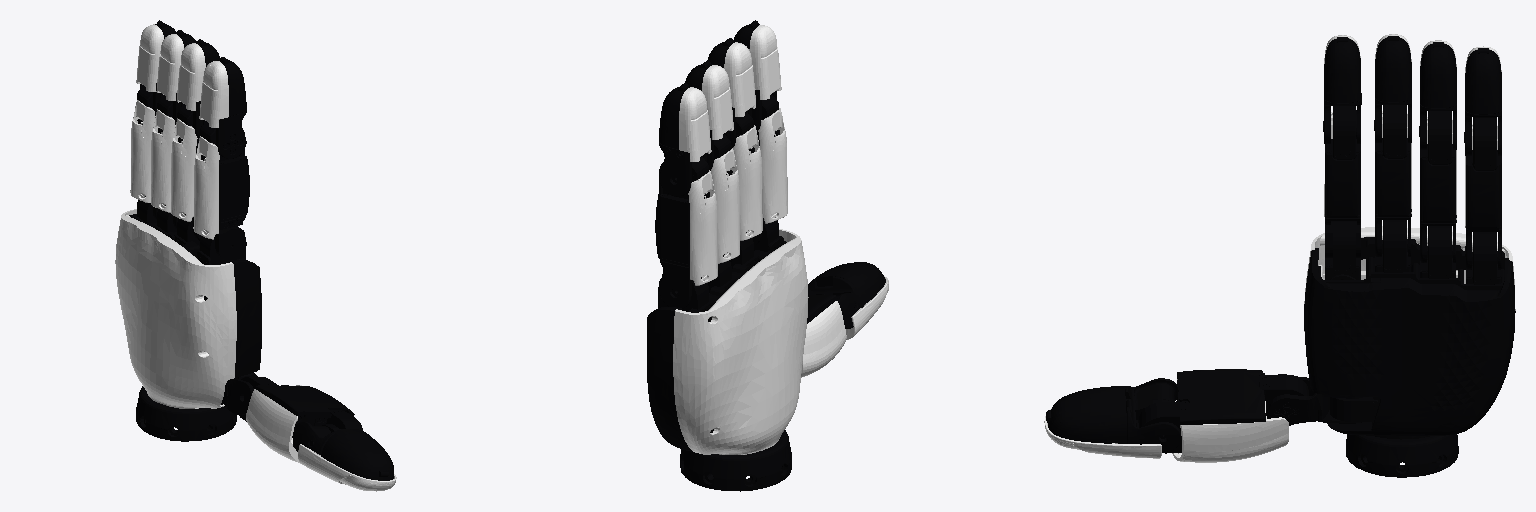
--- What the picture shows (computed from the rendered views, not written in the file) ---
Views: 3 orthographic renders of the robot side by side, from view 1: azimuth 30°, elevation 25°; view 2: azimuth 150°, elevation 25°; view 3: azimuth 270°, elevation 25°.
Model xhand_left with 30 links and 29 joints (12 revolute, 17 fixed), rooted at left_hand_link, posed all joints at 0.
Visible links, largest first — view 1: left_hand_back_link, left_hand_link, left_hand_thumb_rota_link2, left_hand_thumb_rota_link1, left_hand_index_rota_link1, left_hand_index_rotaback_link1, left_hand_thumb_rotaback_link1, left_hand_midback_link1, left_hand_index_rota_link2, left_hand_pinkyback_link1, left_hand_ringback_link1, left_hand_index_rotaback_link2 (+6 smaller); view 2: left_hand_back_link, left_hand_link, left_hand_pinky_link1, left_hand_pinkyback_link1, left_hand_index_rotaback_link1, left_hand_thumb_rota_link2, left_hand_ringback_link1, left_hand_midback_link1, left_hand_pinky_link2, left_hand_thumb_rotaback_link1, left_hand_pinkyback_link2, left_hand_index_rotaback_link2 (+5 smaller); view 3: left_hand_link, left_hand_thumb_rota_link1, left_hand_thumb_rota_link2, left_hand_pinky_link1, left_hand_mid_link1, left_hand_ring_link1, left_hand_thumb_rotaback_link1, left_hand_index_rota_link1, left_hand_index_rota_link2, left_hand_ring_link2, left_hand_pinky_link2, left_hand_mid_link2 (+4 smaller).
Boxes of the visible links, box(x1,y1,x2,y2) form: left_hand_back_link: box(115, 209, 236, 408); left_hand_link: box(129, 200, 261, 441); left_hand_thumb_rota_link2: box(293, 422, 393, 480); left_hand_thumb_rota_link1: box(239, 377, 362, 447); left_hand_index_rota_link1: box(200, 122, 249, 229); left_hand_index_rotaback_link1: box(193, 136, 219, 239); left_hand_thumb_rotaback_link1: box(246, 385, 301, 463); left_hand_midback_link1: box(171, 118, 197, 221); left_hand_index_rota_link2: box(203, 60, 246, 158); left_hand_pinkyback_link1: box(130, 100, 155, 202); left_hand_ringback_link1: box(151, 109, 175, 212); left_hand_index_rotaback_link2: box(199, 61, 228, 127); left_hand_back_link: box(673, 229, 808, 454); left_hand_link: box(647, 238, 791, 491); left_hand_pinky_link1: box(655, 156, 709, 308); left_hand_pinkyback_link1: box(688, 170, 717, 285); left_hand_index_rotaback_link1: box(758, 108, 787, 223); left_hand_thumb_rota_link2: box(808, 262, 885, 328); left_hand_ringback_link1: box(711, 148, 739, 263); left_hand_midback_link1: box(733, 125, 762, 240); left_hand_pinky_link2: box(659, 87, 706, 196); left_hand_thumb_rotaback_link1: box(801, 301, 846, 377); left_hand_pinkyback_link2: box(679, 87, 711, 161); left_hand_index_rotaback_link2: box(749, 25, 781, 99); left_hand_link: box(1304, 220, 1515, 477); left_hand_thumb_rota_link1: box(1136, 369, 1308, 453); left_hand_thumb_rota_link2: box(1047, 378, 1181, 451); left_hand_pinky_link1: box(1465, 117, 1501, 269); left_hand_mid_link1: box(1375, 105, 1411, 256); left_hand_ring_link1: box(1420, 111, 1456, 262); left_hand_thumb_rotaback_link1: box(1172, 379, 1288, 462); left_hand_index_rota_link1: box(1325, 106, 1360, 224); left_hand_index_rota_link2: box(1323, 38, 1361, 144); left_hand_ring_link2: box(1419, 44, 1456, 149); left_hand_pinky_link2: box(1464, 50, 1501, 155); left_hand_mid_link2: box(1374, 37, 1411, 142).
Size in the robot's own frame: 0.0643 by 0.2091 by 0.2077 metres.
Meshes: 30 distinct files referenced, 30 mesh visuals loaded (30 binary STL).

The robot description file, URDF, robot "xhand_left":
<?xml version="1.0" encoding="utf-8"?>
<!-- This URDF was automatically created by SolidWorks to URDF Exporter! Originally created by Stephen Brawner ([email redacted]) 
     Commit Version: 1.6.0-4-g7f85cfe  Build Version: 1.6.7995.38578
     For more information, please see http://wiki.ros.org/sw_urdf_exporter -->
<robot
  name="xhand_left">
  <link
    name="left_hand_link">
    <inertial>
      <origin
        xyz="0.0101781679017777 0.00332669287155701 0.0570610488181997"
        rpy="0 0 0" />
      <mass
        value="0.53930141" />
      <inertia
        ixx="0.00064456"
        ixy="-0.0000027"
        ixz="-0.00000218"
        iyy="0.00046462"
        iyz="-0.00005116"
        izz="0.00027776" />
    </inertial>
    <visual>
      <origin
        xyz="0 0 0"
        rpy="0 0 0" />
      <geometry>
        <mesh
          filename="package://xhand_left/meshes/left_hand_link.STL" />
      </geometry>
      <material
        name="RAL_9005_Jet_Black">
        <color
          rgba="0.055 0.055 0.063 1.0" />
      </material>
    </visual>
    <collision>
      <origin
        xyz="0 0 0"
        rpy="0 0 0" />
      <geometry>
        <mesh
          filename="package://xhand_left/meshes/left_hand_link.STL" />
      </geometry>
    </collision>
  </link>
  <link
    name="left_hand_ee_link">
    <inertial>
      <origin
        xyz="4.91746814101629E-21 6.73369254252873E-16 2.77555756156289E-17"
        rpy="0 0 0" />
      <mass
        value="0.00000565" />
      <inertia
        ixx="0.00000000001"
        ixy="0.00000000001"
        ixz="0.00000000001"
        iyy="0.00000000001"
        iyz="0.00000000001"
        izz="0.00000000001" />
    </inertial>
    <visual>
      <origin
        xyz="0 0 0"
        rpy="0 0 0" />
      <geometry>
        <mesh
          filename="package://xhand_left/meshes/left_hand_ee_link.STL" />
      </geometry>
      <material
        name="RAL_9005_Jet_Black">
        <color
          rgba="0.055 0.055 0.063 1.0" />
      </material>
    </visual>
    <collision>
      <origin
        xyz="0 0 0"
        rpy="0 0 0" />
      <geometry>
        <mesh
          filename="package://xhand_left/meshes/left_hand_ee_link.STL" />
      </geometry>
    </collision>
  </link>
  <joint
    name="left_hand_ee_joint"
    type="fixed">
    <origin
      xyz="0 0 0.065"
      rpy="0 0 0" />
    <parent
      link="left_hand_link" />
    <child
      link="left_hand_ee_link" />
    <axis
      xyz="0 0 0" />
    <dynamics
      damping="0"
      friction="0" />
  </joint>
  <link
    name="left_hand_back_link">
    <inertial>
      <origin
        xyz="-0.014009233507471 0.00206609606832526 -0.000644386526891264"
        rpy="0 0 0" />
      <mass
        value="0.00000002" />
      <inertia
        ixx="0.00000000001"
        ixy="0.00000000001"
        ixz="0.00000000001"
        iyy="0.00000000001"
        iyz="0.00000000001"
        izz="0.00000000001" />
    </inertial>
    <visual>
      <origin
        xyz="0 0 0"
        rpy="0 0 0" />
      <geometry>
        <mesh
          filename="package://xhand_left/meshes/left_hand_back_link.STL" />
      </geometry>
      <material
        name="RAL_9003_Signal_White">
        <color
          rgba="0.941 0.941 0.941 1.0" />
      </material>
    </visual>
    <collision>
      <origin
        xyz="0 0 0"
        rpy="0 0 0" />
      <geometry>
        <mesh
          filename="package://xhand_left/meshes/left_hand_back_link.STL" />
      </geometry>
    </collision>
  </link>
  <joint
    name="left_hand_back_joint"
    type="fixed">
    <origin
      xyz="0 0 0.065"
      rpy="0 0 0" />
    <parent
      link="left_hand_link" />
    <child
      link="left_hand_back_link" />
    <axis
      xyz="0 0 0" />
    <dynamics
      damping="0"
      friction="0" />
  </joint>
  <link
    name="left_hand_thumb_bend_link">
    <inertial>
      <origin
        xyz="-0.00116653621756009 -0.0144315029884419 6.50666001038684E-05"
        rpy="0 0 0" />
      <mass
        value="0.01151453" />
      <inertia
        ixx="0.00000155"
        ixy="0.00000003"
        ixz="0.00000000001"
        iyy="0.00000062"
        iyz="-0.00000007"
        izz="0.00000157" />
    </inertial>
    <visual>
      <origin
        xyz="0 0 0"
        rpy="0 0 0" />
      <geometry>
        <mesh
          filename="package://xhand_left/meshes/left_hand_thumb_bend_link.STL" />
      </geometry>
      <material
        name="RAL_9005_Jet_Black">
        <color
          rgba="0.055 0.055 0.063 1.0" />
      </material>
    </visual>
    <collision>
      <origin
        xyz="0 0 0"
        rpy="0 0 0" />
      <geometry>
        <mesh
          filename="package://xhand_left/meshes/left_hand_thumb_bend_link.STL" />
      </geometry>
    </collision>
  </link>
  <joint
    name="left_hand_thumb_bend_joint"
    type="revolute">
    <origin
      xyz="0.0095 -0.0228 0.0305"
      rpy="0 0 0" />
    <parent
      link="left_hand_link" />
    <child
      link="left_hand_thumb_bend_link" />
    <axis
      xyz="0 0 1" />
    <limit
      lower="0"
      upper="1.832"
      effort="1.1"
      velocity="8.63" />
    <dynamics
      damping="0"
      friction="0" />
  </joint>
  <link
    name="left_hand_thumb_rota_link1">
    <inertial>
      <origin
        xyz="-0.00035301300459029 -0.028699400584612 0.00135210573795722"
        rpy="0 0 0" />
      <mass
        value="0.1322853" />
      <inertia
        ixx="0.00003665"
        ixy="0.00000788"
        ixz="0.00000198"
        iyy="0.00001694"
        iyz="-0.00000185"
        izz="0.00004358" />
    </inertial>
    <visual>
      <origin
        xyz="0 0 0"
        rpy="0 0 0" />
      <geometry>
        <mesh
          filename="package://xhand_left/meshes/left_hand_thumb_rota_link1.STL" />
      </geometry>
      <material
        name="RAL_9005_Jet_Black">
        <color
          rgba="0.055 0.055 0.063 1.0" />
      </material>
    </visual>
    <collision>
      <origin
        xyz="0 0 0"
        rpy="0 0 0" />
      <geometry>
        <mesh
          filename="package://xhand_left/meshes/left_hand_thumb_rota_link1.STL" />
      </geometry>
    </collision>
  </link>
  <joint
    name="left_hand_thumb_rota_joint1"
    type="revolute">
    <origin
      xyz="0.0083177 -0.028599 -0.00178"
      rpy="0 0.2618 0.0407" />
    <parent
      link="left_hand_thumb_bend_link" />
    <child
      link="left_hand_thumb_rota_link1" />
    <axis
      xyz="-1 0 0" />
    <limit
      lower="-0.698"
      upper="1.57"
      effort="1.1"
      velocity="8.63" />
    <dynamics
      damping="0"
      friction="0" />
  </joint>
  <link
    name="left_hand_thumb_rotaback_link1">
    <inertial>
      <origin
        xyz="0.00145635345487377 0.0296284435379628 -0.00757347054072981"
        rpy="0 0 0" />
      <mass
        value="0.00000006" />
      <inertia
        ixx="0.00000000001"
        ixy="0.00000000001"
        ixz="0.00000000001"
        iyy="0.00000000001"
        iyz="0.00000000001"
        izz="0.00000000001" />
    </inertial>
    <visual>
      <origin
        xyz="0 0 0"
        rpy="0 0 0" />
      <geometry>
        <mesh
          filename="package://xhand_left/meshes/left_hand_thumb_rotaback_link1.STL" />
      </geometry>
      <material
        name="RAL_9003_Signal_White">
        <color
          rgba="0.941 0.941 0.941 1.0" />
      </material>
    </visual>
    <collision>
      <origin
        xyz="0 0 0"
        rpy="0 0 0" />
      <geometry>
        <mesh
          filename="package://xhand_left/meshes/left_hand_thumb_rotaback_link1.STL" />
      </geometry>
    </collision>
  </link>
  <joint
    name="left_hand_thumb_rotaback_joint1"
    type="fixed">
    <origin
      xyz="0 -0.0553000000000004 0"
      rpy="0 0 0" />
    <parent
      link="left_hand_thumb_rota_link1" />
    <child
      link="left_hand_thumb_rotaback_link1" />
    <axis
      xyz="0 0 0" />
    <dynamics
      damping="0"
      friction="0" />
  </joint>
  <link
    name="left_hand_thumb_rota_link2">
    <inertial>
      <origin
        xyz="-0.000460793967924878 -0.0228414268658243 0.000578251608109689"
        rpy="0 0 0" />
      <mass
        value="0.03516871" />
      <inertia
        ixx="0.00000779"
        ixy="-0.00000002"
        ixz="0.00000034"
        iyy="0.0000035"
        iyz="0.00000018"
        izz="0.00000896" />
    </inertial>
    <visual>
      <origin
        xyz="0 0 0"
        rpy="0 0 0" />
      <geometry>
        <mesh
          filename="package://xhand_left/meshes/left_hand_thumb_rota_link2.STL" />
      </geometry>
      <material
        name="RAL_9005_Jet_Black">
        <color
          rgba="0.055 0.055 0.063 1.0" />
      </material>
    </visual>
    <collision>
      <origin
        xyz="0 0 0"
        rpy="0 0 0" />
      <geometry>
        <mesh
          filename="package://xhand_left/meshes/left_hand_thumb_rota_link2.STL" />
      </geometry>
    </collision>
  </link>
  <joint
    name="left_hand_thumb_rota_joint2"
    type="revolute">
    <origin
      xyz="0 -0.0553 0"
      rpy="0 0 0" />
    <parent
      link="left_hand_thumb_rota_link1" />
    <child
      link="left_hand_thumb_rota_link2" />
    <axis
      xyz="-1 0 0" />
    <limit
      lower="0"
      upper="1.57"
      effort="0.4"
      velocity="14.38" />
    <dynamics
      damping="0"
      friction="0" />
  </joint>
  <link
    name="left_hand_thumb_rotaback_link2">
    <inertial>
      <origin
        xyz="-0.000513245945552355 0.0256681874022328 -0.00926148643045993"
        rpy="0 0 0" />
      <mass
        value="0.00000004" />
      <inertia
        ixx="0.00000000001"
        ixy="0.00000000001"
        ixz="0.00000000001"
        iyy="0.00000000001"
        iyz="0.00000000001"
        izz="0.00000000001" />
    </inertial>
    <visual>
      <origin
        xyz="0 0 0"
        rpy="0 0 0" />
      <geometry>
        <mesh
          filename="package://xhand_left/meshes/left_hand_thumb_rotaback_link2.STL" />
      </geometry>
      <material
        name="RAL_9003_Signal_White">
        <color
          rgba="0.941 0.941 0.941 1.0" />
      </material>
    </visual>
    <collision>
      <origin
        xyz="0 0 0"
        rpy="0 0 0" />
      <geometry>
        <mesh
          filename="package://xhand_left/meshes/left_hand_thumb_rotaback_link2.STL" />
      </geometry>
    </collision>
  </link>
  <joint
    name="left_hand_thumb_rotaback_joint2"
    type="fixed">
    <origin
      xyz="0 -0.0499881470979494 0"
      rpy="0 0 0" />
    <parent
      link="left_hand_thumb_rota_link2" />
    <child
      link="left_hand_thumb_rotaback_link2" />
    <axis
      xyz="0 0 0" />
    <dynamics
      damping="0"
      friction="0" />
  </joint>
  <link
    name="left_hand_thumb_rota_tip">
    <inertial>
      <origin
        xyz="-6.93889390390723E-18 -2.77555756156289E-17 -1.87350135405495E-16"
        rpy="0 0 0" />
      <mass
        value="0.00000565" />
      <inertia
        ixx="0.00000000001"
        ixy="0.00000000001"
        ixz="0.00000000001"
        iyy="0.00000000001"
        iyz="0.00000000001"
        izz="0.00000000001" />
    </inertial>
    <visual>
      <origin
        xyz="0 0 0"
        rpy="0 0 0" />
      <geometry>
        <mesh
          filename="package://xhand_left/meshes/left_hand_thumb_rota_tip.STL" />
      </geometry>
      <material
        name="RAL_9005_Jet_Black">
        <color
          rgba="0.055 0.055 0.063 1.0" />
      </material>
    </visual>
    <collision>
      <origin
        xyz="0 0 0"
        rpy="0 0 0" />
      <geometry>
        <mesh
          filename="package://xhand_left/meshes/left_hand_thumb_rota_tip.STL" />
      </geometry>
    </collision>
  </link>
  <joint
    name="left_hand_thumb_rota_joint3"
    type="fixed">
    <origin
      xyz="0 -0.0499881470979494 0"
      rpy="0 0 0" />
    <parent
      link="left_hand_thumb_rota_link2" />
    <child
      link="left_hand_thumb_rota_tip" />
    <axis
      xyz="0 0 0" />
    <dynamics
      damping="0"
      friction="0" />
  </joint>
  <link
    name="left_hand_index_bend_link">
    <inertial>
      <origin
        xyz="-0.000715851164578153 0.000118997558756634 0.0111903014853559"
        rpy="0 0 0" />
      <mass
        value="0.068721" />
      <inertia
        ixx="0.00001643"
        ixy="0.00000000001"
        ixz="0.00000013"
        iyy="0.00001707"
        iyz="-0.00000011"
        izz="0.00000343" />
    </inertial>
    <visual>
      <origin
        xyz="0 0 0"
        rpy="0 0 0" />
      <geometry>
        <mesh
          filename="package://xhand_left/meshes/left_hand_index_bend_link.STL" />
      </geometry>
      <material
        name="RAL_9005_Jet_Black">
        <color
          rgba="0.055 0.055 0.063 1.0" />
      </material>
    </visual>
    <collision>
      <origin
        xyz="0 0 0"
        rpy="0 0 0" />
      <geometry>
        <mesh
          filename="package://xhand_left/meshes/left_hand_index_bend_link.STL" />
      </geometry>
    </collision>
  </link>
  <joint
    name="left_hand_index_bend_joint"
    type="revolute">
    <origin
      xyz="0.0065 -0.0265 0.0899"
      rpy="0 0 0" />
    <parent
      link="left_hand_link" />
    <child
      link="left_hand_index_bend_link" />
    <axis
      xyz="1 0 0" />
    <limit
      lower="-0.174"
      upper="0.174"
      effort="0.4"
      velocity="14.38" />
    <dynamics
      damping="0"
      friction="0" />
  </joint>
  <link
    name="left_hand_index_rota_link1">
    <inertial>
      <origin
        xyz="0.000632930512953291 0.000133008106555473 0.0355868719939086"
        rpy="0 0 0" />
      <mass
        value="0.06298297" />
      <inertia
        ixx="0.00001686"
        ixy="0.00000000001"
        ixz="-0.00000019"
        iyy="0.00001738"
        iyz="-0.00000028"
        izz="0.0000032" />
    </inertial>
    <visual>
      <origin
        xyz="0 0 0"
        rpy="0 0 0" />
      <geometry>
        <mesh
          filename="package://xhand_left/meshes/left_hand_index_rota_link1.STL" />
      </geometry>
      <material
        name="RAL_9005_Jet_Black">
        <color
          rgba="0.055 0.055 0.063 1" />
      </material>
    </visual>
    <collision>
      <origin
        xyz="0 0 0"
        rpy="0 0 0" />
      <geometry>
        <mesh
          filename="package://xhand_left/meshes/left_hand_index_rota_link1.STL" />
      </geometry>
    </collision>
  </link>
  <joint
    name="left_hand_index_joint1"
    type="revolute">
    <origin
      xyz="0 0 0.0178"
      rpy="0 0 0" />
    <parent
      link="left_hand_index_bend_link" />
    <child
      link="left_hand_index_rota_link1" />
    <axis
      xyz="0 1 0" />
    <limit
      lower="0"
      upper="1.919"
      effort="1.1"
      velocity="8.63" />
    <dynamics
      damping="0"
      friction="0" />
  </joint>
  <link
    name="left_hand_index_rotaback_link1">
    <inertial>
      <origin
        xyz="-0.011594801976911 -0.000148033356023192 -0.0241234221633289"
        rpy="0 0 0" />
      <mass
        value="0.00000002" />
      <inertia
        ixx="0.00000000001"
        ixy="0.00000000001"
        ixz="0.00000000001"
        iyy="0.00000000001"
        iyz="0.00000000001"
        izz="0.00000000001" />
    </inertial>
    <visual>
      <origin
        xyz="0 0 0"
        rpy="0 0 0" />
      <geometry>
        <mesh
          filename="package://xhand_left/meshes/left_hand_index_rotaback_link1.STL" />
      </geometry>
      <material
        name="RAL_9003_Signal_White">
        <color
          rgba="0.941 0.941 0.941 1" />
      </material>
    </visual>
    <collision>
      <origin
        xyz="0 0 0"
        rpy="0 0 0" />
      <geometry>
        <mesh
          filename="package://xhand_left/meshes/left_hand_index_rotaback_link1.STL" />
      </geometry>
    </collision>
  </link>
  <joint
    name="left_hand_index_rotaback_joint1"
    type="fixed">
    <origin
      xyz="0 0 0.0558"
      rpy="0 0 0" />
    <parent
      link="left_hand_index_rota_link1" />
    <child
      link="left_hand_index_rotaback_link1" />
    <axis
      xyz="0 0 0" />
    <dynamics
      damping="0"
      friction="0" />
  </joint>
  <link
    name="left_hand_index_rota_link2">
    <inertial>
      <origin
        xyz="0.00119905164876562 -0.000248362062241336 0.0213789865633107"
        rpy="0 0 0" />
      <mass
        value="0.01582395" />
      <inertia
        ixx="0.00000283"
        ixy="0.00000000001"
        ixz="-0.00000007"
        iyy="0.00000277"
        iyz="-0.00000012"
        izz="0.00000085" />
    </inertial>
    <visual>
      <origin
        xyz="0 0 0"
        rpy="0 0 0" />
      <geometry>
        <mesh
          filename="package://xhand_left/meshes/left_hand_index_rota_link2.STL" />
      </geometry>
      <material
        name="RAL_9005_Jet_Black">
        <color
          rgba="0.055 0.055 0.063 1" />
      </material>
    </visual>
    <collision>
      <origin
        xyz="0 0 0"
        rpy="0 0 0" />
      <geometry>
        <mesh
          filename="package://xhand_left/meshes/left_hand_index_rota_link2.STL" />
      </geometry>
    </collision>
  </link>
  <joint
    name="left_hand_index_joint2"
    type="revolute">
    <origin
      xyz="0 0 0.0558"
      rpy="0 0 0" />
    <parent
      link="left_hand_index_rota_link1" />
    <child
      link="left_hand_index_rota_link2" />
    <axis
      xyz="0 1 0" />
    <limit
      lower="0"
      upper="1.919"
      effort="0.4"
      velocity="14.38" />
    <dynamics
      damping="0"
      friction="0" />
  </joint>
  <link
    name="left_hand_index_rotaback_link2">
    <inertial>
      <origin
        xyz="-0.00758843721876781 0.00015795043860968 -0.0176655210856498"
        rpy="0 0 0" />
      <mass
        value="0.00000001" />
      <inertia
        ixx="0.00000000001"
        ixy="0.00000000001"
        ixz="0.00000000001"
        iyy="0.00000000001"
        iyz="0.00000000001"
        izz="0.00000000001" />
    </inertial>
    <visual>
      <origin
        xyz="0 0 0"
        rpy="0 0 0" />
      <geometry>
        <mesh
          filename="package://xhand_left/meshes/left_hand_index_rotaback_link2.STL" />
      </geometry>
      <material
        name="RAL_9003_Signal_White">
        <color
          rgba="0.941 0.941 0.941 1" />
      </material>
    </visual>
    <collision>
      <origin
        xyz="0 0 0"
        rpy="0 0 0" />
      <geometry>
        <mesh
          filename="package://xhand_left/meshes/left_hand_index_rotaback_link2.STL" />
      </geometry>
    </collision>
  </link>
  <joint
    name="left_hand_index_rotaback_joint2"
    type="fixed">
    <origin
      xyz="0 0 0.0422482924089404"
      rpy="0 0 0" />
    <parent
      link="left_hand_index_rota_link2" />
    <child
      link="left_hand_index_rotaback_link2" />
    <axis
      xyz="0 0 0" />
    <dynamics
      damping="0"
      friction="0" />
  </joint>
  <link
    name="left_hand_index_rota_tip">
    <inertial>
      <origin
        xyz="2.28983498828939E-16 2.77555756156289E-17 8.32667268468867E-17"
        rpy="0 0 0" />
      <mass
        value="0.00000565" />
      <inertia
        ixx="0.00000000001"
        ixy="0.00000000001"
        ixz="0.00000000001"
        iyy="0.00000000001"
        iyz="0.00000000001"
        izz="0.00000000001" />
    </inertial>
    <visual>
      <origin
        xyz="0 0 0"
        rpy="0 0 0" />
      <geometry>
        <mesh
          filename="package://xhand_left/meshes/left_hand_index_rota_tip.STL" />
      </geometry>
      <material
        name="RAL_9005_Jet_Black">
        <color
          rgba="0.055 0.055 0.063 1" />
      </material>
    </visual>
    <collision>
      <origin
        xyz="0 0 0"
        rpy="0 0 0" />
      <geometry>
        <mesh
          filename="package://xhand_left/meshes/left_hand_index_rota_tip.STL" />
      </geometry>
    </collision>
  </link>
  <joint
    name="left_hand_index_rota_joint3"
    type="fixed">
    <origin
      xyz="0 0 0.0422482924089404"
      rpy="0 0 0" />
    <parent
      link="left_hand_index_rota_link2" />
    <child
      link="left_hand_index_rota_tip" />
    <axis
      xyz="0 0 0" />
    <dynamics
      damping="0"
      friction="0" />
  </joint>
  <link
    name="left_hand_mid_link1">
    <inertial>
      <origin
        xyz="0.000530417592105622 3.58049083594107E-05 0.0332784671157222"
        rpy="0 0 0" />
      <mass
        value="0.06298297" />
      <inertia
        ixx="0.00001681"
        ixy="0.00000000001"
        ixz="-0.00000087"
        iyy="0.00001738"
        iyz="-0.00000028"
        izz="0.00000325" />
    </inertial>
    <visual>
      <origin
        xyz="0 0 0"
        rpy="0 0 0" />
      <geometry>
        <mesh
          filename="package://xhand_left/meshes/left_hand_mid_link1.STL" />
      </geometry>
      <material
        name="RAL_9005_Jet_Black">
        <color
          rgba="0.055 0.055 0.063 1" />
      </material>
    </visual>
    <collision>
      <origin
        xyz="0 0 0"
        rpy="0 0 0" />
      <geometry>
        <mesh
          filename="package://xhand_left/meshes/left_hand_mid_link1.STL" />
      </geometry>
    </collision>
  </link>
  <joint
    name="left_hand_mid_joint1"
    type="revolute">
    <origin
      xyz="0.0065 -0.004 0.1082"
      rpy="0 0 0" />
    <parent
      link="left_hand_link" />
    <child
      link="left_hand_mid_link1" />
    <axis
      xyz="0 1 0" />
    <limit
      lower="0"
      upper="1.919"
      effort="1.1"
      velocity="8.63" />
    <dynamics
      damping="0"
      friction="0" />
  </joint>
  <link
    name="left_hand_midback_link1">
    <inertial>
      <origin
        xyz="-0.0115948038827716 -0.000148034993379821 -0.0241234078010511"
        rpy="0 0 0" />
      <mass
        value="0.00000002" />
      <inertia
        ixx="0.00000000001"
        ixy="0.00000000001"
        ixz="0.00000000001"
        iyy="0.00000000001"
        iyz="0.00000000001"
        izz="0.00000000001" />
    </inertial>
    <visual>
      <origin
        xyz="0 0 0"
        rpy="0 0 0" />
      <geometry>
        <mesh
          filename="package://xhand_left/meshes/left_hand_midback_link1.STL" />
      </geometry>
      <material
        name="RAL_9003_Signal_White">
        <color
          rgba="0.941 0.941 0.941 1" />
      </material>
    </visual>
    <collision>
      <origin
        xyz="0 0 0"
        rpy="0 0 0" />
      <geometry>
        <mesh
          filename="package://xhand_left/meshes/left_hand_midback_link1.STL" />
      </geometry>
    </collision>
  </link>
  <joint
    name="left_hand_midback_joint1"
    type="fixed">
    <origin
      xyz="0 0 0.0557999999999999"
      rpy="0 0 0" />
    <parent
      link="left_hand_mid_link1" />
    <child
      link="left_hand_midback_link1" />
    <axis
      xyz="0 0 0" />
    <dynamics
      damping="0"
      friction="0" />
  </joint>
  <link
    name="left_hand_mid_link2">
    <inertial>
      <origin
        xyz="0.00119905190206727 -0.000248361662017015 0.0213789854478658"
        rpy="0 0 0" />
      <mass
        value="0.01582395" />
      <inertia
        ixx="0.00000287"
        ixy="-0.00000001"
        ixz="-0.00000019"
        iyy="0.00000283"
        iyz="-0.00000012"
        izz="0.00000087" />
    </inertial>
    <visual>
      <origin
        xyz="0 0 0"
        rpy="0 0 0" />
      <geometry>
        <mesh
          filename="package://xhand_left/meshes/left_hand_mid_link2.STL" />
      </geometry>
      <material
        name="RAL_9005_Jet_Black">
        <color
          rgba="0.055 0.055 0.063 1" />
      </material>
    </visual>
    <collision>
      <origin
        xyz="0 0 0"
        rpy="0 0 0" />
      <geometry>
        <mesh
          filename="package://xhand_left/meshes/left_hand_mid_link2.STL" />
      </geometry>
    </collision>
  </link>
  <joint
    name="left_hand_mid_joint2"
    type="revolute">
    <origin
      xyz="0 0 0.0558"
      rpy="0 0 0" />
    <parent
      link="left_hand_mid_link1" />
    <child
      link="left_hand_mid_link2" />
    <axis
      xyz="0 1 0" />
    <limit
      lower="0"
      upper="1.919"
      effort="0.4"
      velocity="14.38" />
    <dynamics
      damping="0"
      friction="0" />
  </joint>
  <link
    name="left_hand_midback_link2">
    <inertial>
      <origin
        xyz="-0.00758843721877429 0.000157950438614112 -0.0176655210856846"
        rpy="0 0 0" />
      <mass
        value="0.00000001" />
      <inertia
        ixx="0.00000000001"
        ixy="0.00000000001"
        ixz="0.00000000001"
        iyy="0.00000000001"
        iyz="0.00000000001"
        izz="0.00000000001" />
    </inertial>
    <visual>
      <origin
        xyz="0 0 0"
        rpy="0 0 0" />
      <geometry>
        <mesh
          filename="package://xhand_left/meshes/left_hand_midback_link2.STL" />
      </geometry>
      <material
        name="RAL_9003_Signal_White">
        <color
          rgba="0.941 0.941 0.941 1" />
      </material>
    </visual>
    <collision>
      <origin
        xyz="0 0 0"
        rpy="0 0 0" />
      <geometry>
        <mesh
          filename="package://xhand_left/meshes/left_hand_midback_link2.STL" />
      </geometry>
    </collision>
  </link>
  <joint
    name="left_hand_midback_joint2"
    type="fixed">
    <origin
      xyz="0 0 0.0422482924089405"
      rpy="0 0 0" />
    <parent
      link="left_hand_mid_link2" />
    <child
      link="left_hand_midback_link2" />
    <axis
      xyz="0 0 0" />
    <dynamics
      damping="0"
      friction="0" />
  </joint>
  <link
    name="left_hand_mid_tip">
    <inertial>
      <origin
        xyz="-2.95770352654046E-16 -9.47159017883337E-16 -8.32667268468867E-17"
        rpy="0 0 0" />
      <mass
        value="0.00000565" />
      <inertia
        ixx="0.00000000001"
        ixy="0.00000000001"
        ixz="0.00000000001"
        iyy="0.00000000001"
        iyz="0.00000000001"
        izz="0.00000000001" />
    </inertial>
    <visual>
      <origin
        xyz="0 0 0"
        rpy="0 0 0" />
      <geometry>
        <mesh
          filename="package://xhand_left/meshes/left_hand_mid_tip.STL" />
      </geometry>
      <material
        name="RAL_9005_Jet_Black">
        <color
          rgba="0.055 0.055 0.063 1" />
      </material>
    </visual>
    <collision>
      <origin
        xyz="0 0 0"
        rpy="0 0 0" />
      <geometry>
        <mesh
          filename="package://xhand_left/meshes/left_hand_mid_tip.STL" />
      </geometry>
    </collision>
  </link>
  <joint
    name="left_hand_mid_joint3"
    type="fixed">
    <origin
      xyz="0 0 0.0422482924089405"
      rpy="0 0 0" />
    <parent
      link="left_hand_mid_link2" />
    <child
      link="left_hand_mid_tip" />
    <axis
      xyz="0 0 0" />
    <dynamics
      damping="0"
      friction="0" />
  </joint>
  <link
    name="left_hand_ring_link1">
    <inertial>
      <origin
        xyz="0.000530417592106638 3.58049083593742E-05 0.0332784671157222"
        rpy="0 0 0" />
      <mass
        value="0.06298297" />
      <inertia
        ixx="0.00001681"
        ixy="0.00000000001"
        ixz="-0.00000087"
        iyy="0.00001738"
        iyz="-0.00000028"
        izz="0.00000325" />
    </inertial>
    <visual>
      <origin
        xyz="0 0 0"
        rpy="0 0 0" />
      <geometry>
        <mesh
          filename="package://xhand_left/meshes/left_hand_ring_link1.STL" />
      </geometry>
      <material
        name="RAL_9005_Jet_Black">
        <color
          rgba="0.055 0.055 0.063 1" />
      </material>
    </visual>
    <collision>
      <origin
        xyz="0 0 0"
        rpy="0 0 0" />
      <geometry>
        <mesh
          filename="package://xhand_left/meshes/left_hand_ring_link1.STL" />
      </geometry>
    </collision>
  </link>
  <joint
    name="left_hand_ring_joint1"
    type="revolute">
    <origin
      xyz="0.0065 0.016 0.1052"
      rpy="0 0 0" />
    <parent
      link="left_hand_link" />
    <child
      link="left_hand_ring_link1" />
    <axis
      xyz="0 1 0" />
    <limit
      lower="0"
      upper="1.919"
      effort="1.1"
      velocity="8.63" />
    <dynamics
      damping="0"
      friction="0" />
  </joint>
  <link
    name="left_hand_ringback_link1">
    <inertial>
      <origin
        xyz="-0.0115948037724185 -0.000148033973560953 -0.024123408635586"
        rpy="0 0 0" />
      <mass
        value="0.00000002" />
      <inertia
        ixx="0.00000000001"
        ixy="0.00000000001"
        ixz="0.00000000001"
        iyy="0.00000000001"
        iyz="0.00000000001"
        izz="0.00000000001" />
    </inertial>
    <visual>
      <origin
        xyz="0 0 0"
        rpy="0 0 0" />
      <geometry>
        <mesh
          filename="package://xhand_left/meshes/left_hand_ringback_link1.STL" />
      </geometry>
      <material
        name="RAL_9003_Signal_White">
        <color
          rgba="0.941 0.941 0.941 1" />
      </material>
    </visual>
    <collision>
      <origin
        xyz="0 0 0"
        rpy="0 0 0" />
      <geometry>
        <mesh
          filename="package://xhand_left/meshes/left_hand_ringback_link1.STL" />
      </geometry>
    </collision>
  </link>
  <joint
    name="left_hand_ringback_joint1"
    type="fixed">
    <origin
      xyz="0 0 0.0557999999999999"
      rpy="0 0 0" />
    <parent
      link="left_hand_ring_link1" />
    <child
      link="left_hand_ringback_link1" />
    <axis
      xyz="0 0 0" />
    <dynamics
      damping="0"
      friction="0" />
  </joint>
  <link
    name="left_hand_ring_link2">
    <inertial>
      <origin
        xyz="0.00119905190206878 -0.000248361662017488 0.0213789854478662"
        rpy="0 0 0" />
      <mass
        value="0.01582395" />
      <inertia
        ixx="0.00000287"
        ixy="-0.00000001"
        ixz="-0.00000019"
        iyy="0.00000283"
        iyz="-0.00000012"
        izz="0.00000087" />
    </inertial>
    <visual>
      <origin
        xyz="0 0 0"
        rpy="0 0 0" />
      <geometry>
        <mesh
          filename="package://xhand_left/meshes/left_hand_ring_link2.STL" />
      </geometry>
      <material
        name="RAL_9005_Jet_Black">
        <color
          rgba="0.055 0.055 0.063 1" />
      </material>
    </visual>
    <collision>
      <origin
        xyz="0 0 0"
        rpy="0 0 0" />
      <geometry>
        <mesh
          filename="package://xhand_left/meshes/left_hand_ring_link2.STL" />
      </geometry>
    </collision>
  </link>
  <joint
    name="left_hand_ring_joint2"
    type="revolute">
    <origin
      xyz="0 0 0.0558"
      rpy="0 0 0" />
    <parent
      link="left_hand_ring_link1" />
    <child
      link="left_hand_ring_link2" />
    <axis
      xyz="0 1 0" />
    <limit
      lower="0"
      upper="1.919"
      effort="0.4"
      velocity="14.38" />
    <dynamics
      damping="0"
      friction="0" />
  </joint>
  <link
    name="left_hand_ringback_link2">
    <inertial>
      <origin
        xyz="-0.00758843721876292 0.000157950438630702 -0.0176655210856099"
        rpy="0 0 0" />
      <mass
        value="0.00000001" />
      <inertia
        ixx="0.00000000001"
        ixy="0.00000000001"
        ixz="0.00000000001"
        iyy="0.00000000001"
        iyz="0.00000000001"
        izz="0.00000000001" />
    </inertial>
    <visual>
      <origin
        xyz="0 0 0"
        rpy="0 0 0" />
      <geometry>
        <mesh
          filename="package://xhand_left/meshes/left_hand_ringback_link2.STL" />
      </geometry>
      <material
        name="RAL_9003_Signal_White">
        <color
          rgba="0.941 0.941 0.941 1" />
      </material>
    </visual>
    <collision>
      <origin
        xyz="0 0 0"
        rpy="0 0 0" />
      <geometry>
        <mesh
          filename="package://xhand_left/meshes/left_hand_ringback_link2.STL" />
      </geometry>
    </collision>
  </link>
  <joint
    name="left_hand_ringback_joint2"
    type="fixed">
    <origin
      xyz="0 0 0.0422482924089406"
      rpy="0 0 0" />
    <parent
      link="left_hand_ring_link2" />
    <child
      link="left_hand_ringback_link2" />
    <axis
      xyz="0 0 0" />
    <dynamics
      damping="0"
      friction="0" />
  </joint>
  <link
    name="left_hand_ring_tip">
    <inertial>
      <origin
        xyz="8.56086035394554E-16 -1.01654795692241E-15 -1.94289029309402E-16"
        rpy="0 0 0" />
      <mass
        value="0.00000565" />
      <inertia
        ixx="0.00000000001"
        ixy="0.00000000001"
        ixz="0.00000000001"
        iyy="0.00000000001"
        iyz="0.00000000001"
        izz="0.00000000001" />
    </inertial>
    <visual>
      <origin
        xyz="0 0 0"
        rpy="0 0 0" />
      <geometry>
        <mesh
          filename="package://xhand_left/meshes/left_hand_ring_tip.STL" />
      </geometry>
      <material
        name="RAL_9005_Jet_Black">
        <color
          rgba="0.055 0.055 0.063 1" />
      </material>
    </visual>
    <collision>
      <origin
        xyz="0 0 0"
        rpy="0 0 0" />
      <geometry>
        <mesh
          filename="package://xhand_left/meshes/left_hand_ring_tip.STL" />
      </geometry>
    </collision>
  </link>
  <joint
    name="left_hand_ring_joint3"
    type="fixed">
    <origin
      xyz="0 0 0.0422482924089406"
      rpy="0 0 0" />
    <parent
      link="left_hand_ring_link2" />
    <child
      link="left_hand_ring_tip" />
    <axis
      xyz="0 0 0" />
    <dynamics
      damping="0"
      friction="0" />
  </joint>
  <link
    name="left_hand_pinky_link1">
    <inertial>
      <origin
        xyz="0.000530417592107322 3.58049083593395E-05 0.0332784671157223"
        rpy="0 0 0" />
      <mass
        value="0.06298297" />
      <inertia
        ixx="0.00001681"
        ixy="0.00000000001"
        ixz="-0.00000087"
        iyy="0.00001738"
        iyz="-0.00000028"
        izz="0.00000325" />
    </inertial>
    <visual>
      <origin
        xyz="0 0 0"
        rpy="0 0 0" />
      <geometry>
        <mesh
          filename="package://xhand_left/meshes/left_hand_pinky_link1.STL" />
      </geometry>
      <material
        name="RAL_9005_Jet_Black">
        <color
          rgba="0.055 0.055 0.063 1" />
      </material>
    </visual>
    <collision>
      <origin
        xyz="0 0 0"
        rpy="0 0 0" />
      <geometry>
        <mesh
          filename="package://xhand_left/meshes/left_hand_pinky_link1.STL" />
      </geometry>
    </collision>
  </link>
  <joint
    name="left_hand_pinky_joint1"
    type="revolute">
    <origin
      xyz="0.0065 0.036 0.1022"
      rpy="0 0 0" />
    <parent
      link="left_hand_link" />
    <child
      link="left_hand_pinky_link1" />
    <axis
      xyz="0 1 0" />
    <limit
      lower="0"
      upper="1.919"
      effort="1.1"
      velocity="8.63" />
    <dynamics
      damping="0"
      friction="0" />
  </joint>
  <link
    name="left_hand_pinkyback_link1">
    <inertial>
      <origin
        xyz="-0.0115948040789513 -0.000148034863564427 -0.0241234082030784"
        rpy="0 0 0" />
      <mass
        value="0.00000002" />
      <inertia
         ixx="0.00000000001"
        ixy="0.00000000001"
        ixz="0.00000000001"
        iyy="0.00000000001"
        iyz="0.00000000001"
        izz="0.00000000001"/>
    </inertial>
    <visual>
      <origin
        xyz="0 0 0"
        rpy="0 0 0" />
      <geometry>
        <mesh
          filename="package://xhand_left/meshes/left_hand_pinkyback_link1.STL" />
      </geometry>
      <material
        name="RAL_9003_Signal_White">
        <color
          rgba="0.941 0.941 0.941 1" />
      </material>
    </visual>
    <collision>
      <origin
        xyz="0 0 0"
        rpy="0 0 0" />
      <geometry>
        <mesh
          filename="package://xhand_left/meshes/left_hand_pinkyback_link1.STL" />
      </geometry>
    </collision>
  </link>
  <joint
    name="left_hand_pinkyback_joint1"
    type="fixed">
    <origin
      xyz="0 0 0.0558"
      rpy="0 0 0" />
    <parent
      link="left_hand_pinky_link1" />
    <child
      link="left_hand_pinkyback_link1" />
    <axis
      xyz="0 0 0" />
    <dynamics
      damping="0"
      friction="0" />
  </joint>
  <link
    name="left_hand_pinky_link2">
    <inertial>
      <origin
        xyz="0.00119905190206892 -0.000248361662017089 0.021378985447866"
        rpy="0 0 0" />
      <mass
        value="0.01582395" />
      <inertia
        ixx="0.00000287"
        ixy="-0.00000001"
        ixz="-0.00000019"
        iyy="0.00000283"
        iyz="-0.00000012"
        izz="0.00000087" />
    </inertial>
    <visual>
      <origin
        xyz="0 0 0"
        rpy="0 0 0" />
      <geometry>
        <mesh
          filename="package://xhand_left/meshes/left_hand_pinky_link2.STL" />
      </geometry>
      <material
        name="RAL_9005_Jet_Black">
        <color
          rgba="0.055 0.055 0.063 1" />
      </material>
    </visual>
    <collision>
      <origin
        xyz="0 0 0"
        rpy="0 0 0" />
      <geometry>
        <mesh
          filename="package://xhand_left/meshes/left_hand_pinky_link2.STL" />
      </geometry>
    </collision>
  </link>
  <joint
    name="left_hand_pinky_joint2"
    type="revolute">
    <origin
      xyz="0 0 0.0558"
      rpy="0 0 0" />
    <parent
      link="left_hand_pinky_link1" />
    <child
      link="left_hand_pinky_link2" />
    <axis
      xyz="0 1 0" />
    <limit
      lower="0"
      upper="1.919"
      effort="0.4"
      velocity="14.38" />
    <dynamics
      damping="0"
      friction="0" />
  </joint>
  <link
    name="left_hand_pinkyback_link2">
    <inertial>
      <origin
        xyz="-0.00758843721876646 0.000157950438616029 -0.0176655210856331"
        rpy="0 0 0" />
      <mass
        value="0.00000001" />
      <inertia
        ixx="0.00000000001"
        ixy="0.00000000001"
        ixz="0.00000000001"
        iyy="0.00000000001"
        iyz="0.00000000001"
        izz="0.00000000001"/>
    </inertial>
    <visual>
      <origin
        xyz="0 0 0"
        rpy="0 0 0" />
      <geometry>
        <mesh
          filename="package://xhand_left/meshes/left_hand_pinkyback_link2.STL" />
      </geometry>
      <material
        name="RAL_9003_Signal_White">
        <color
          rgba="0.941 0.941 0.941 1" />
      </material>
    </visual>
    <collision>
      <origin
        xyz="0 0 0"
        rpy="0 0 0" />
      <geometry>
        <mesh
          filename="package://xhand_left/meshes/left_hand_pinkyback_link2.STL" />
      </geometry>
    </collision>
  </link>
  <joint
    name="left_hand_pinkyback_joint2"
    type="fixed">
    <origin
      xyz="0 0 0.042248"
      rpy="0 0 0" />
    <parent
      link="left_hand_pinky_link2" />
    <child
      link="left_hand_pinkyback_link2" />
    <axis
      xyz="0 0 0" />
    <dynamics
      damping="0"
      friction="0" />
  </joint>
  <link
    name="left_hand_pinky_tip">
    <inertial>
      <origin
        xyz="2.1163626406917E-15 -8.32667268468867E-17 -5.55111512312578E-17"
        rpy="0 0 0" />
      <mass
        value="0.00000565" />
      <inertia
        ixx="0.00000000001"
        ixy="0.00000000001"
        ixz="0.00000000001"
        iyy="0.00000000001"
        iyz="0.00000000001"
        izz="0.00000000001"/>
    </inertial>
    <visual>
      <origin
        xyz="0 0 0"
        rpy="0 0 0" />
      <geometry>
        <mesh
          filename="package://xhand_left/meshes/left_hand_pinky_tip.STL" />
      </geometry>
      <material
        name="RAL_9005_Jet_Black">
        <color
          rgba="0.055 0.055 0.063 1" />
      </material>
    </visual>
    <collision>
      <origin
        xyz="0 0 0"
        rpy="0 0 0" />
      <geometry>
        <mesh
          filename="package://xhand_left/meshes/left_hand_pinky_tip.STL" />
      </geometry>
    </collision>
  </link>
  <joint
    name="left_hand_pinky_joint3"
    type="fixed">
    <origin
      xyz="0 0 0.0422482924089406"
      rpy="0 0 0" />
    <parent
      link="left_hand_pinky_link2" />
    <child
      link="left_hand_pinky_tip" />
    <axis
      xyz="0 0 0" />
    <dynamics
      damping="0"
      friction="0" />
  </joint>
</robot>
